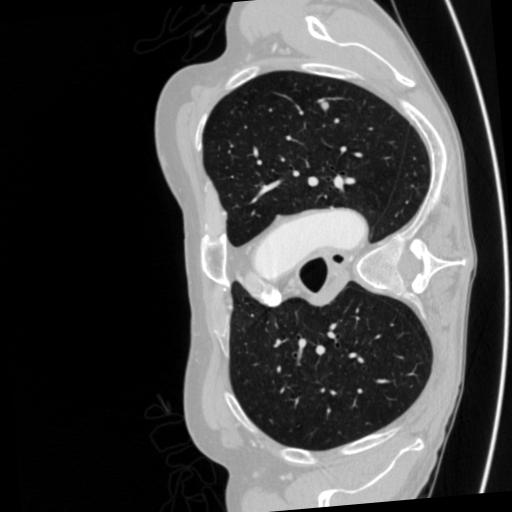nodule: (319, 100, 333, 114)
